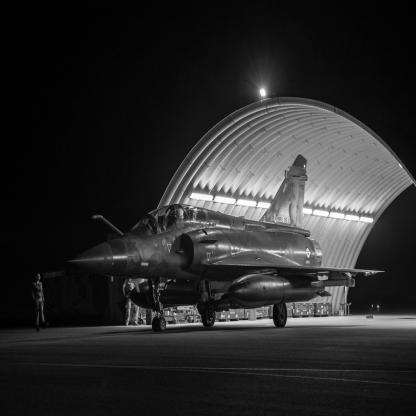Mirage2000: (69, 155, 386, 332)
